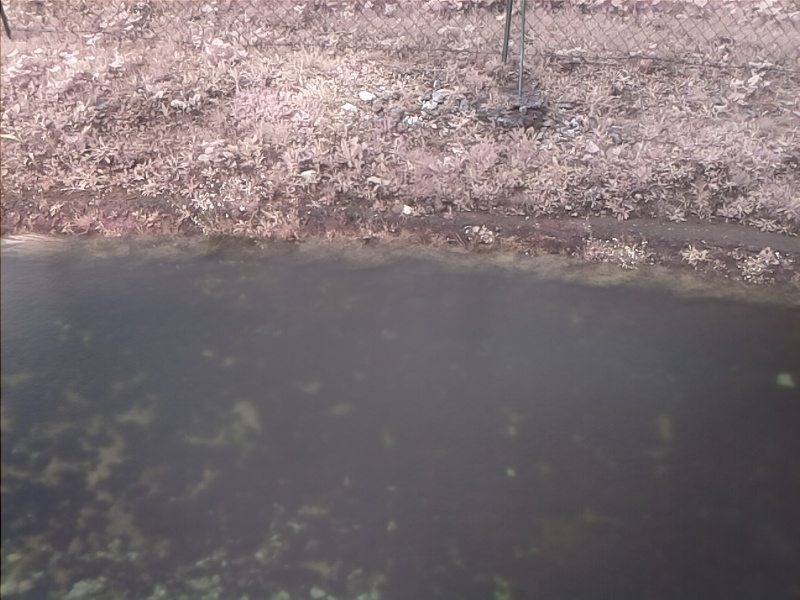Water: (1, 233, 800, 599)
